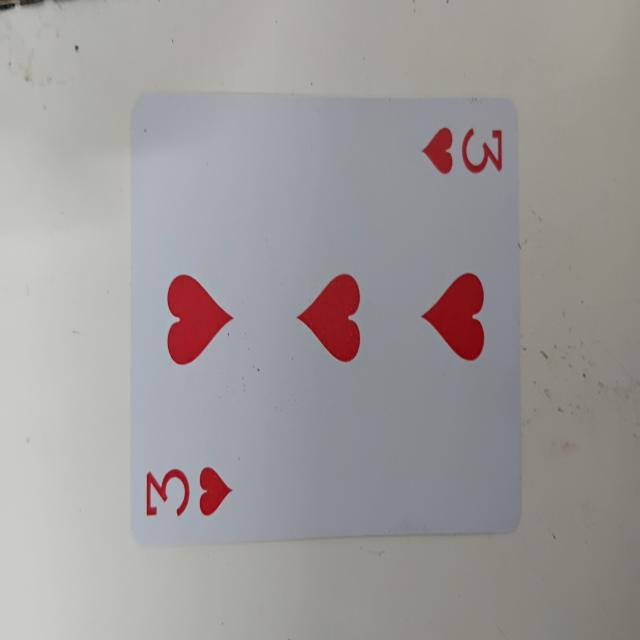3H: (126, 88, 528, 542)
